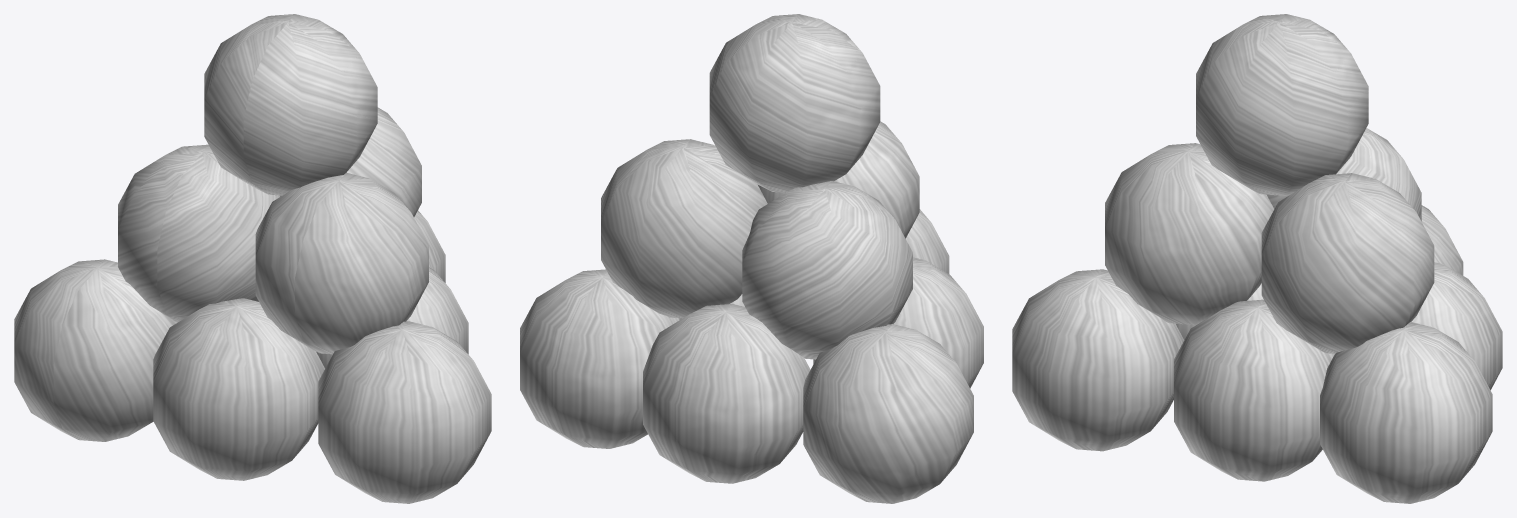
The model's file is AmmoPile.glb.
3 renders of one model, left to right at view 1: azimuth 30°, elevation 25°; view 2: azimuth 150°, elevation 25°; view 3: azimuth 270°, elevation 25°, orthographic.
Parts seen in each view (by area): view 1: Sphere; view 2: Sphere; view 3: Sphere.
Boxes of the visible parts, x1,y1,x2,y2 form: Sphere: [14, 14, 491, 503]; Sphere: [520, 14, 983, 503]; Sphere: [1012, 14, 1502, 503].
Bounding box in the file's own units: 1.61 × 1.49 × 1.61.
Materials: 1 (1 with a texture image).
